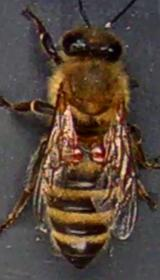varroa_mite: (86, 140, 110, 160), (69, 142, 84, 160)
